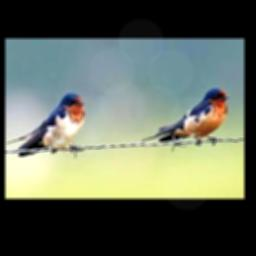Swallow: (141, 87, 232, 144), (7, 93, 86, 156)
